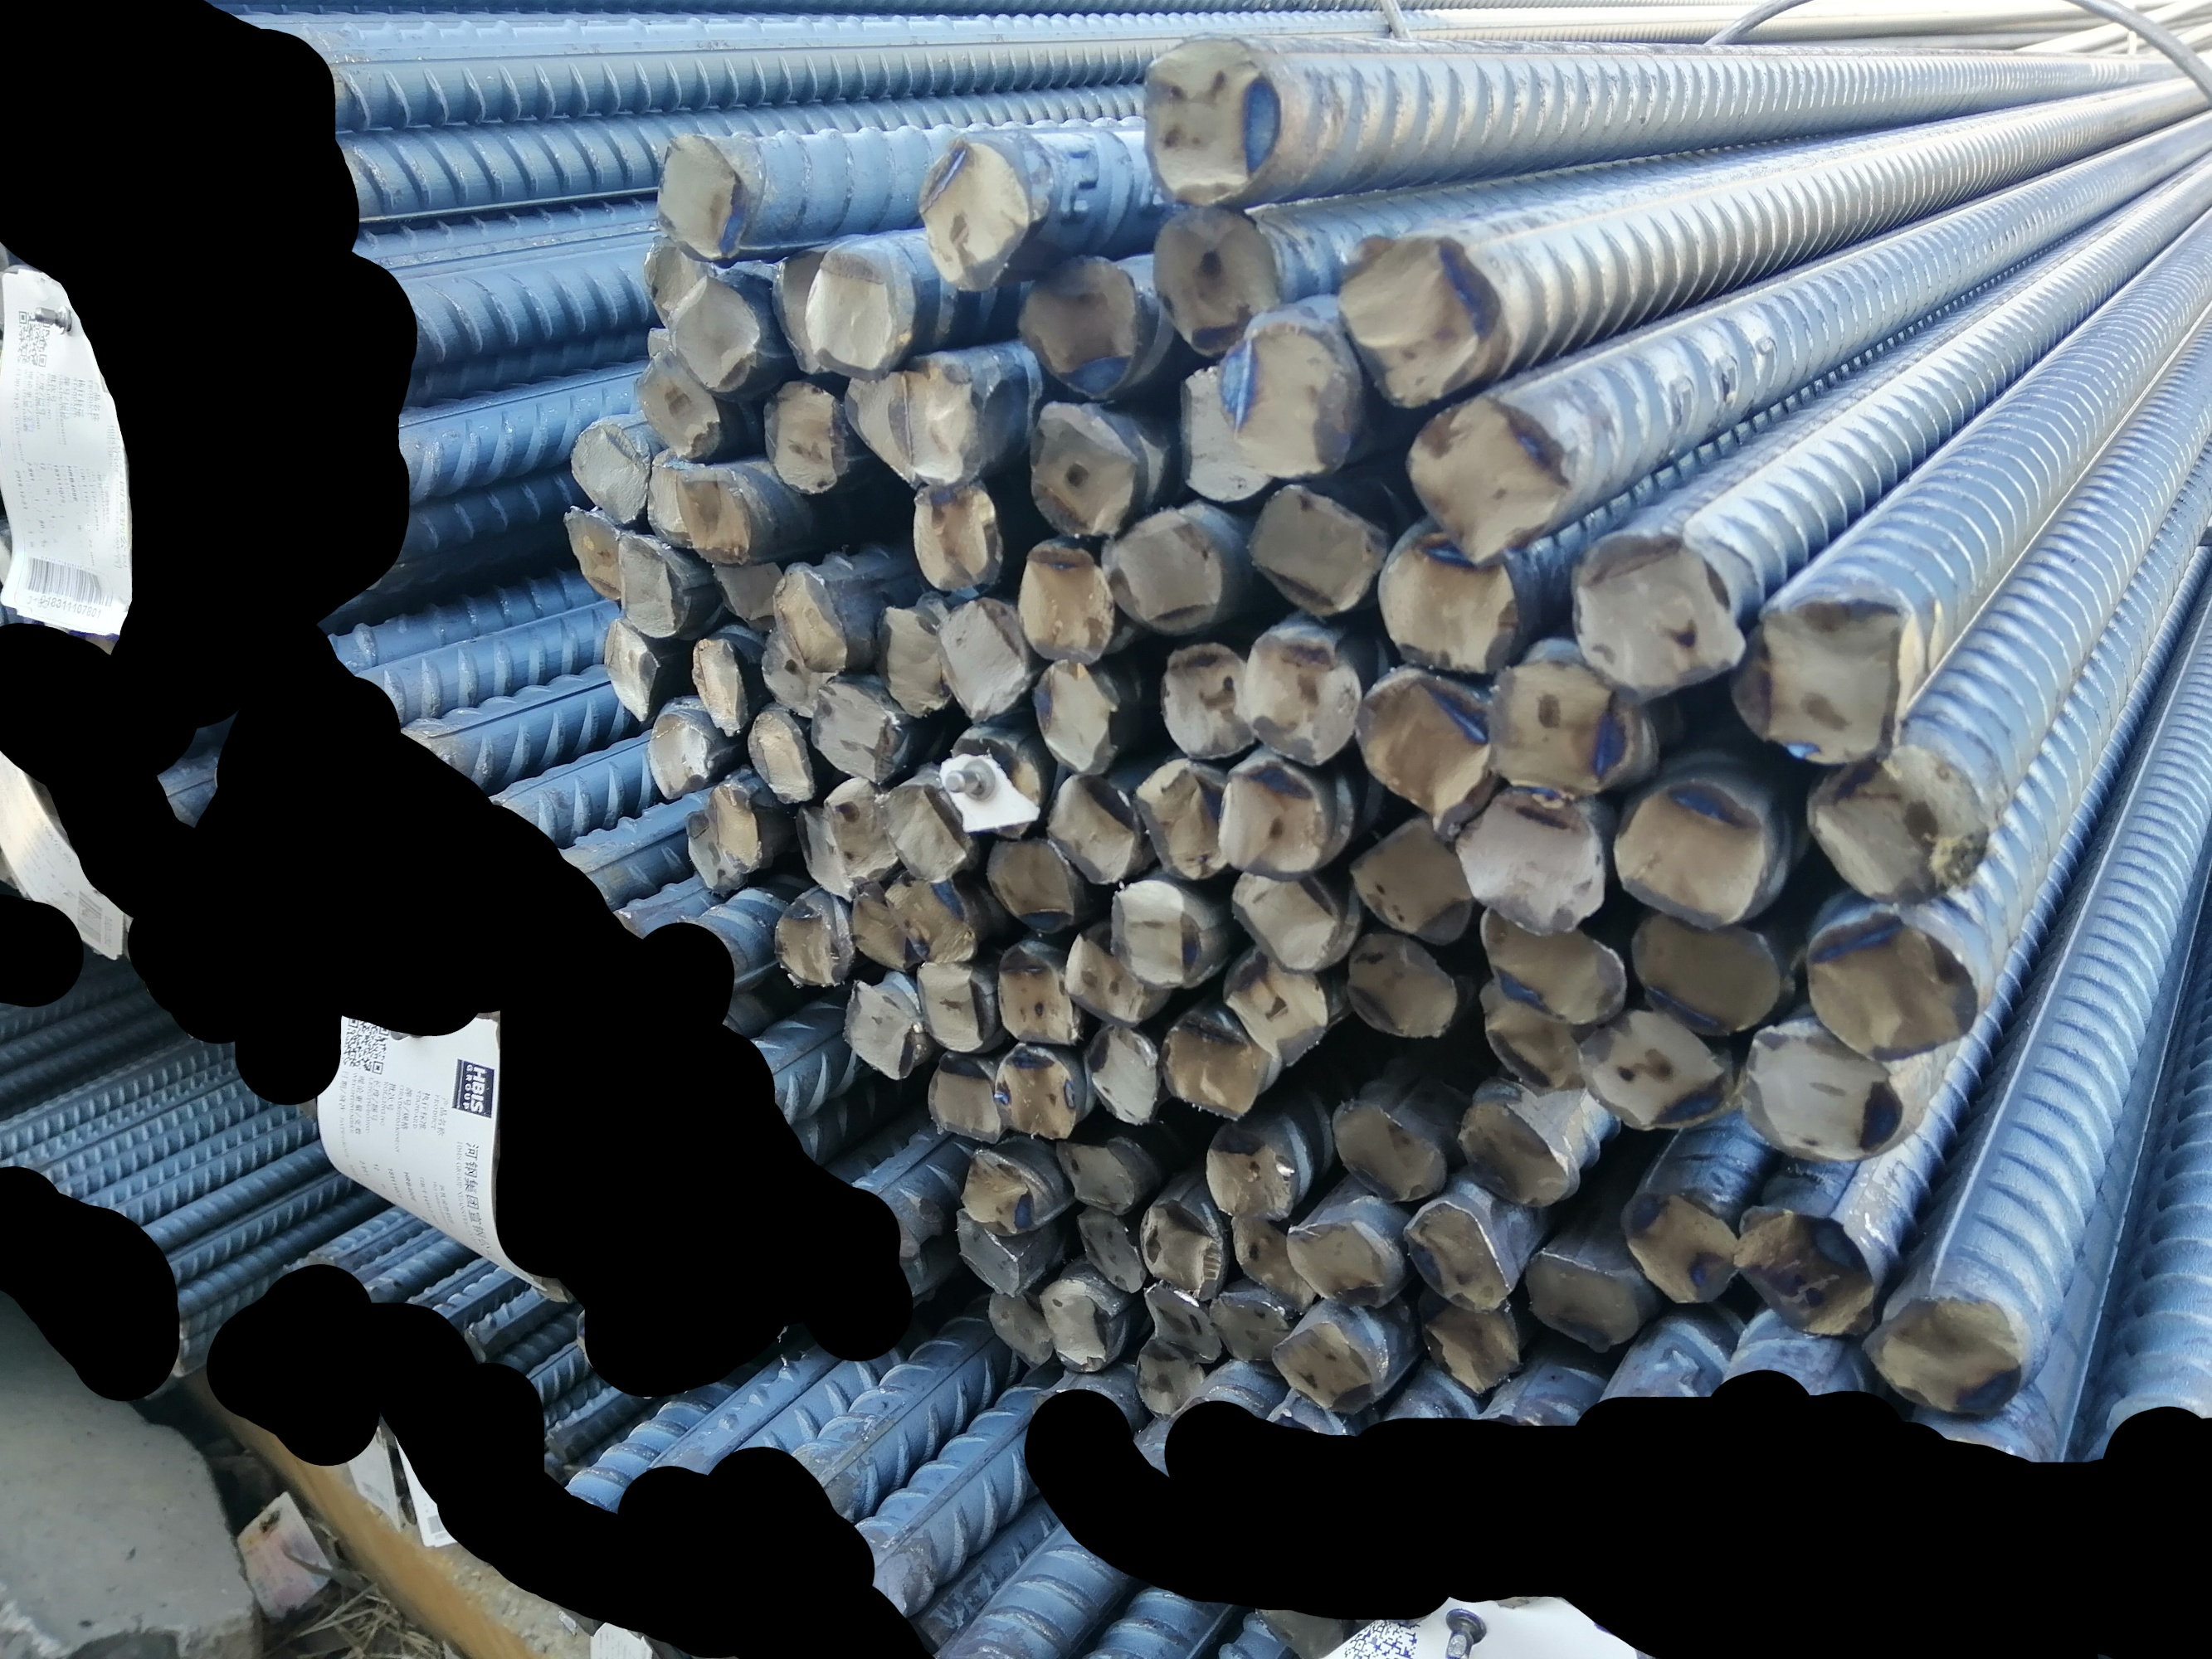rebar: (1722, 594, 1921, 765), (1332, 227, 1504, 418), (1567, 533, 1748, 709), (1802, 748, 1994, 908), (1401, 392, 1564, 570), (1607, 774, 1785, 929), (1138, 35, 1283, 211), (1485, 653, 1644, 814), (1213, 305, 1356, 483), (1351, 664, 1499, 835), (1809, 911, 1978, 1060), (1736, 1019, 1902, 1162), (1449, 795, 1612, 938), (1862, 1283, 2024, 1424), (1145, 206, 1285, 361), (1374, 530, 1520, 676), (1626, 904, 1783, 1037), (1733, 1201, 1879, 1338), (912, 136, 1037, 296), (1576, 1002, 1731, 1131), (1232, 622, 1361, 769), (1020, 249, 1142, 403), (1482, 903, 1630, 1026), (1344, 816, 1471, 951), (1250, 486, 1379, 619), (1621, 1185, 1747, 1309), (1217, 756, 1337, 884), (1098, 514, 1222, 636), (1028, 397, 1135, 538), (1452, 1096, 1584, 1209), (1175, 362, 1274, 505), (802, 242, 901, 383), (901, 472, 1014, 596), (1222, 941, 1332, 1068), (1330, 1096, 1455, 1206), (1417, 1277, 1530, 1398), (1400, 1199, 1517, 1314), (1525, 1241, 1644, 1354), (648, 131, 748, 263), (936, 596, 1035, 727), (1156, 640, 1260, 762), (1013, 540, 1114, 666), (1105, 877, 1211, 995), (1347, 931, 1459, 1042), (1286, 1211, 1407, 1314), (664, 274, 765, 396), (1157, 1007, 1262, 1124), (1229, 866, 1342, 972), (1476, 974, 1579, 1091), (1135, 755, 1227, 882), (894, 354, 978, 490), (760, 376, 854, 497), (1032, 653, 1123, 777), (1267, 1314, 1377, 1415), (1046, 765, 1137, 887), (948, 727, 1042, 842), (1225, 1206, 1325, 1314), (636, 345, 725, 464), (804, 676, 898, 786), (992, 936, 1081, 1051), (983, 831, 1081, 936), (1204, 1119, 1300, 1223), (872, 782, 964, 887), (840, 368, 919, 490), (1140, 1194, 1227, 1304), (1035, 1267, 1121, 1377), (770, 246, 842, 376), (885, 870, 980, 967), (873, 603, 952, 720), (837, 974, 922, 1080), (910, 953, 997, 1056), (1082, 1019, 1161, 1133), (675, 460, 758, 565), (919, 1044, 1006, 1143), (565, 416, 643, 526), (610, 530, 689, 640), (992, 1044, 1079, 1141), (1062, 929, 1145, 1030), (770, 568, 849, 674), (824, 774, 898, 882), (1135, 1276, 1224, 1364), (1049, 1133, 1140, 1218), (641, 230, 716, 331), (743, 706, 818, 807), (774, 894, 851, 992), (641, 443, 711, 549), (840, 878, 919, 971), (1206, 1288, 1295, 1368), (962, 1145, 1039, 1236), (790, 800, 859, 899), (1075, 1206, 1150, 1298), (950, 1204, 1023, 1298), (708, 551, 790, 634), (690, 634, 757, 737), (647, 706, 713, 805), (1130, 1335, 1206, 1420), (601, 617, 661, 725), (985, 1279, 1058, 1364), (706, 777, 770, 873), (563, 505, 626, 603), (683, 809, 753, 896), (760, 622, 823, 718), (643, 322, 673, 361)
